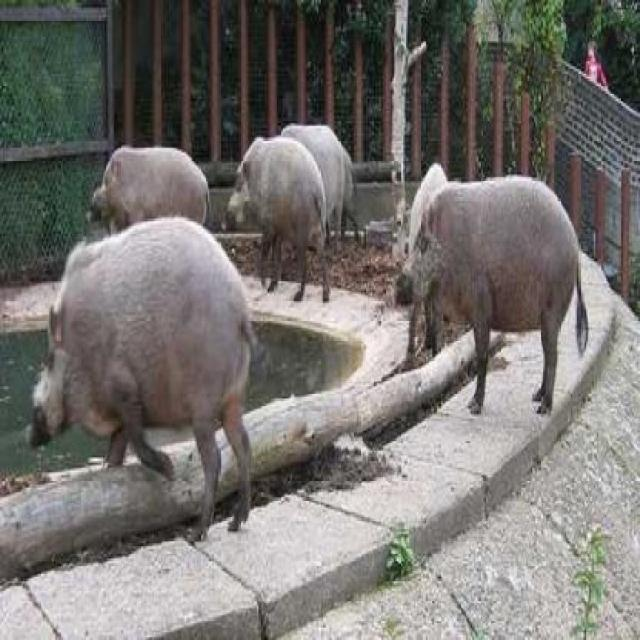Boar: (0, 218, 272, 518), (374, 170, 608, 404), (196, 114, 367, 295), (74, 117, 232, 257)
